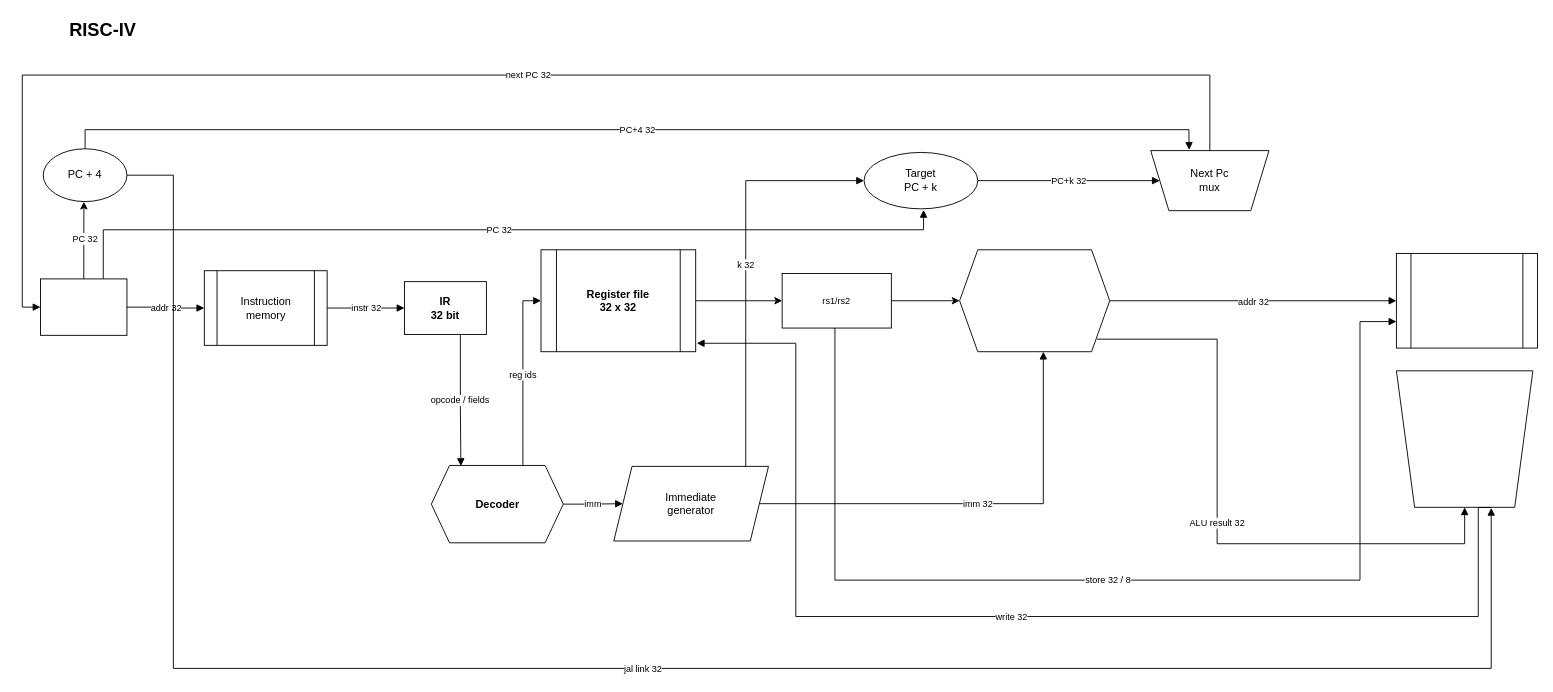
The diagram is 1553 pixels wide and 692 high, and some of its shapes have lost their labels. The centre of each missing label's shape, as x and y in pixels:
ALU: the point at 1034,300
Data memory + MMIO: the point at 1466,300
PC 32 bit: the point at 83,306
Writeback mux: the point at 1464,438
